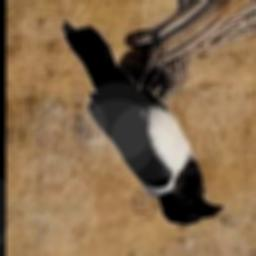Crow: (62, 20, 224, 224)
